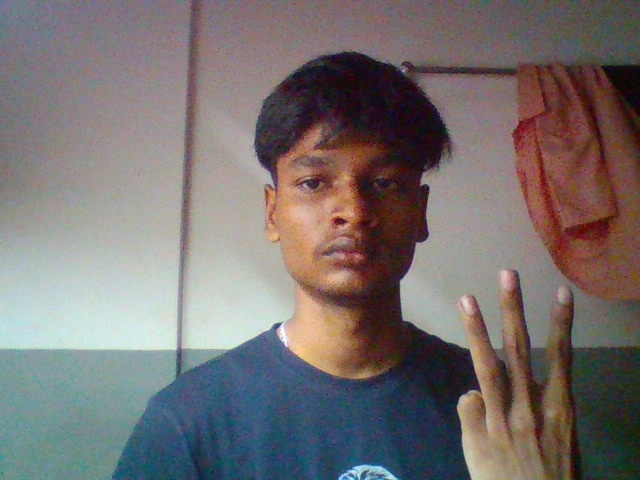W: (440, 260, 600, 480)
